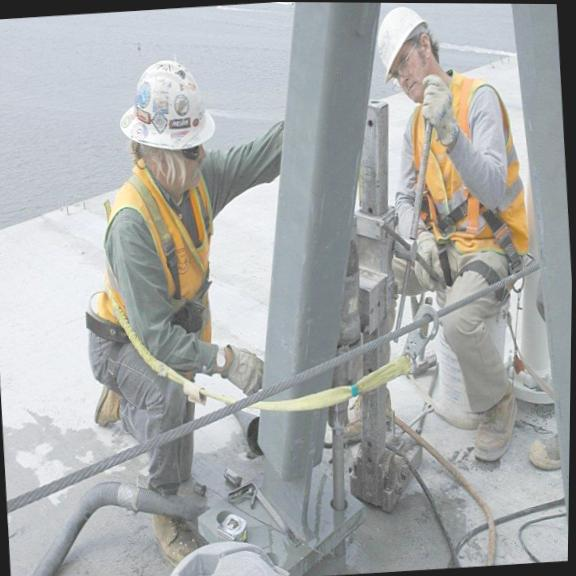safety_vest: (89, 135, 234, 368), (401, 66, 518, 278)
